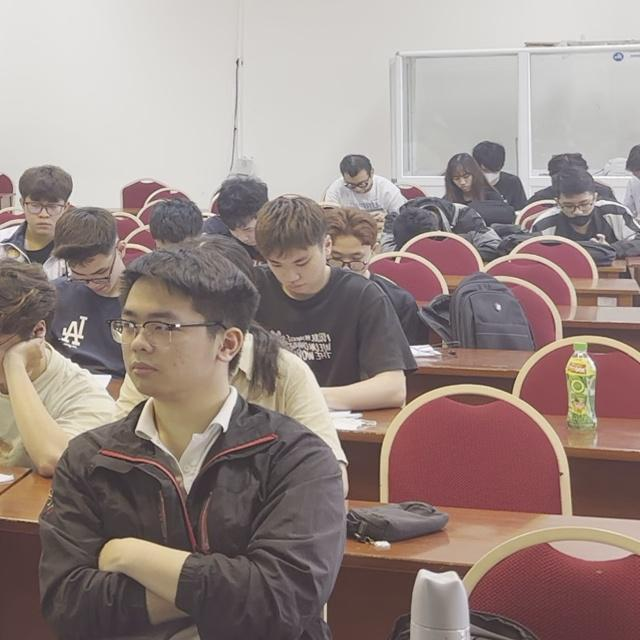Looking away: (246, 210, 341, 321), (0, 258, 54, 403), (302, 190, 386, 278), (53, 201, 121, 302), (11, 158, 82, 247), (204, 168, 268, 250), (462, 126, 523, 204), (560, 173, 610, 245), (144, 197, 199, 257), (328, 146, 384, 202), (608, 136, 640, 194), (449, 159, 487, 205)
Looking forward: (116, 261, 209, 385)
